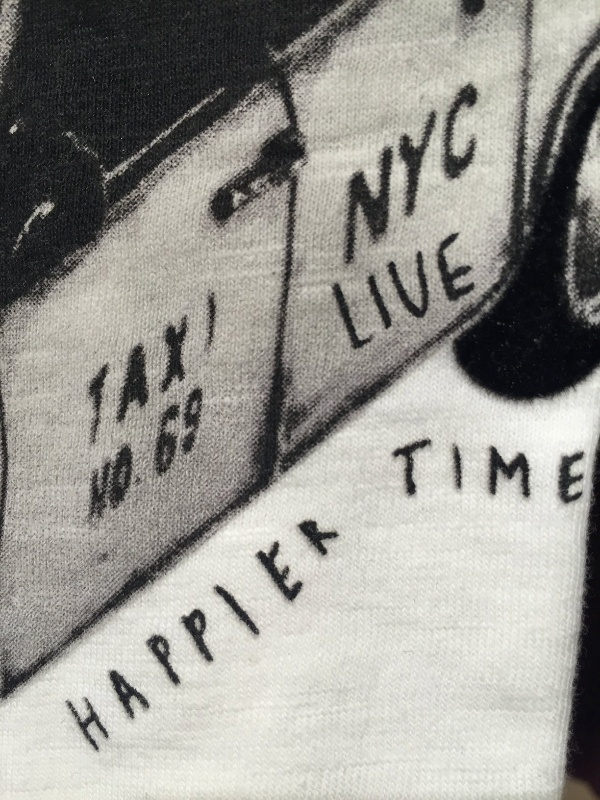text: (65, 501, 80, 800), (81, 501, 96, 800), (97, 501, 112, 800), (113, 501, 128, 800), (129, 501, 144, 800), (145, 501, 160, 800), (161, 501, 176, 800), (177, 501, 192, 800), (193, 501, 208, 800), (209, 501, 224, 800), (225, 501, 240, 800), (241, 501, 256, 800), (257, 501, 272, 800), (273, 501, 288, 800), (289, 501, 304, 800), (305, 501, 320, 800), (321, 501, 336, 800), (465, 72, 481, 274), (353, 72, 368, 274), (369, 72, 384, 274), (385, 72, 400, 274), (401, 72, 416, 274), (417, 72, 432, 274), (433, 72, 448, 274), (449, 72, 464, 274), (97, 263, 112, 455), (113, 263, 128, 455), (129, 263, 144, 455), (145, 263, 160, 455), (161, 263, 176, 455), (177, 263, 192, 455), (193, 263, 208, 455), (337, 501, 346, 800), (465, 228, 481, 358), (337, 228, 352, 358), (353, 228, 368, 358), (369, 228, 384, 358), (385, 228, 400, 358), (401, 228, 416, 358), (417, 228, 432, 358), (433, 228, 448, 358), (449, 228, 464, 358), (87, 263, 96, 455), (209, 263, 218, 455), (161, 378, 176, 485), (177, 378, 192, 485), (129, 440, 145, 535), (97, 440, 112, 535), (113, 440, 128, 535), (401, 438, 416, 525), (417, 438, 432, 525), (433, 438, 448, 525), (449, 438, 464, 525), (465, 438, 480, 525), (481, 438, 496, 525), (497, 438, 512, 525), (513, 438, 528, 525), (529, 438, 544, 525), (545, 438, 560, 525), (561, 438, 576, 525), (193, 378, 205, 485), (390, 438, 400, 525), (577, 438, 587, 525), (348, 72, 352, 274), (330, 228, 336, 358), (88, 440, 96, 535)
